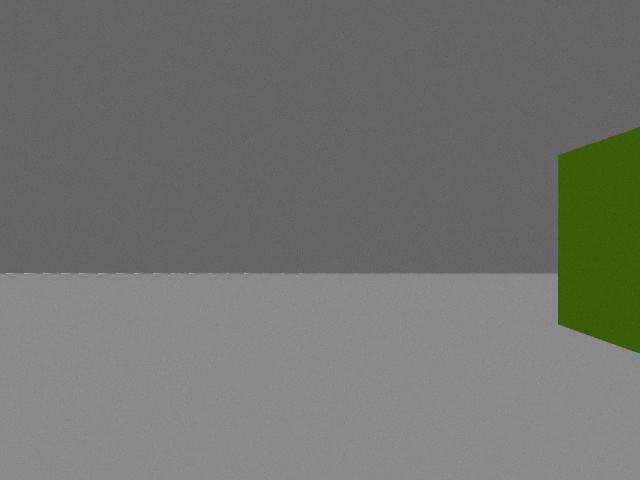green_drop_zone: (558, 127, 640, 353)
